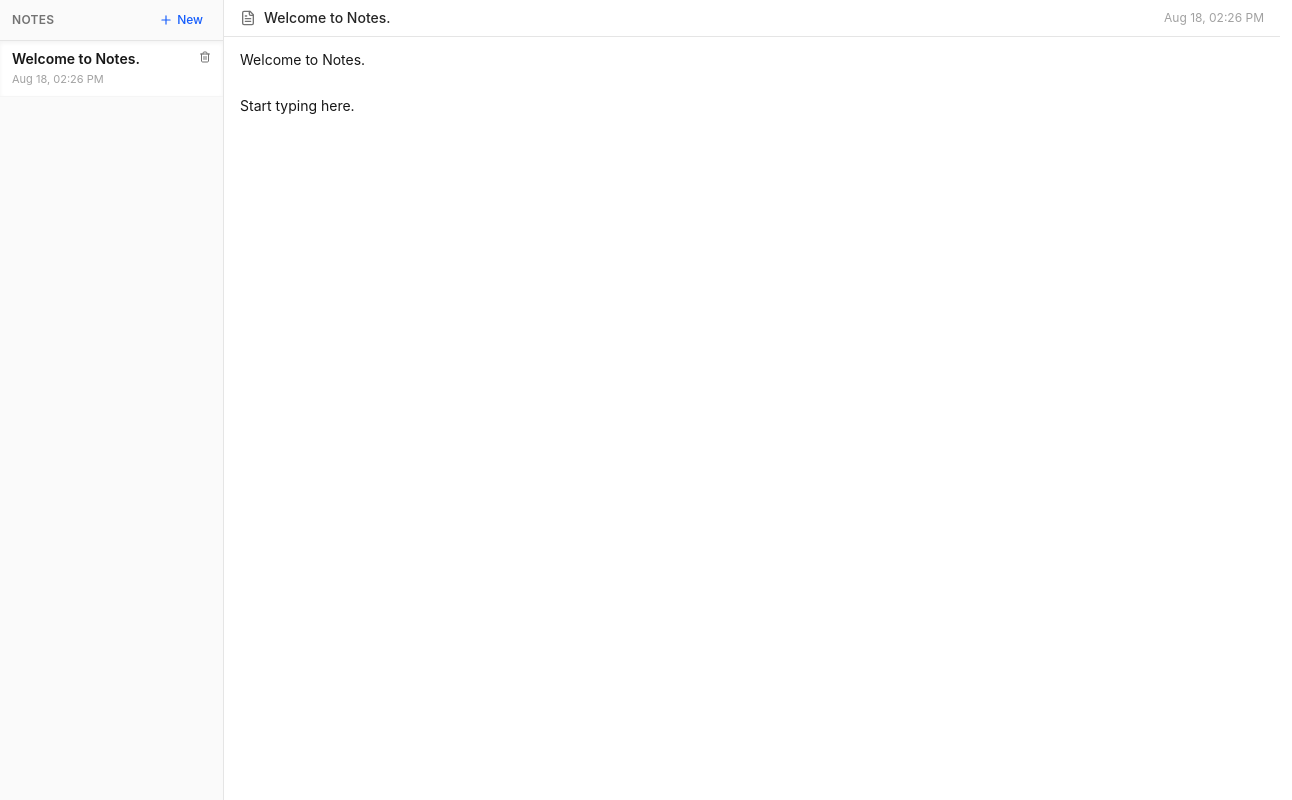
Notes app › updates the active note when typing
Step 1. Replace the text in the text box with test id "note-editor" with "Project plan" → [752, 418], box [224,37,1280,799]
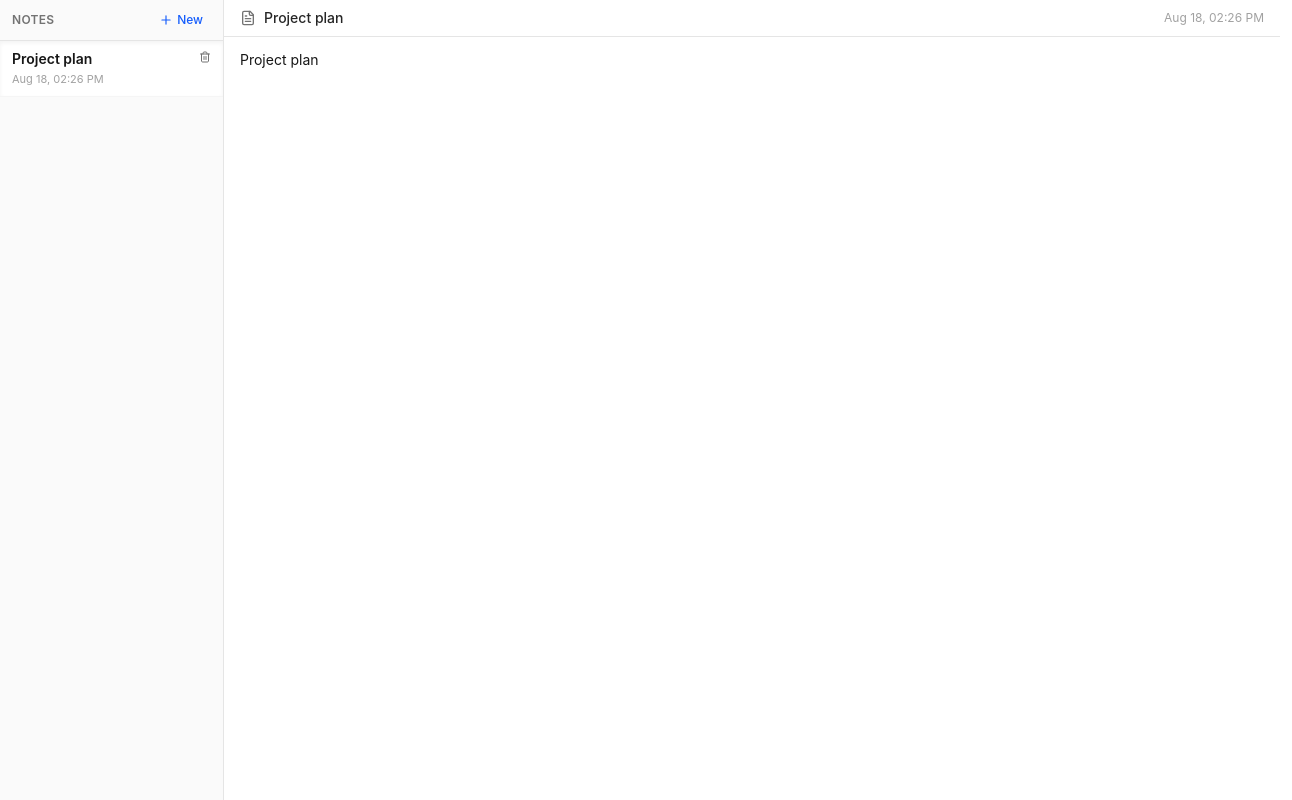
Result: the text "Project plan" below "Notes" is shown at [12,50,92,67]
